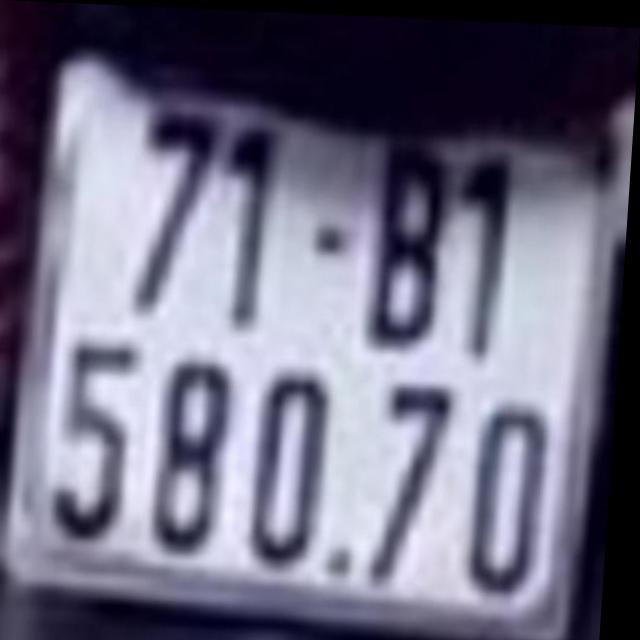0: (248, 364, 340, 572), (468, 380, 555, 595)
1: (458, 137, 520, 351), (222, 127, 280, 322)
5: (60, 336, 145, 539)
7: (126, 113, 224, 311), (379, 377, 464, 588)
8: (157, 349, 240, 548)
B: (368, 137, 453, 349)
